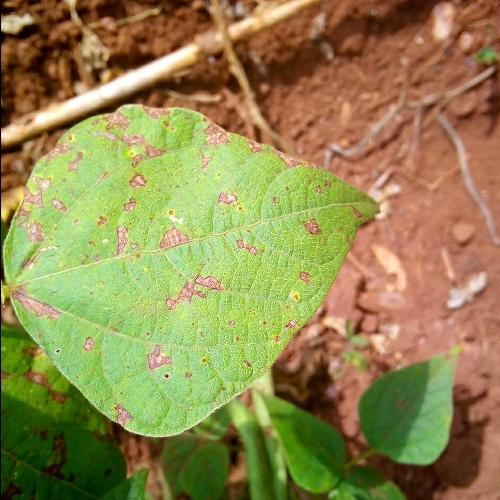mozaik: (39, 81, 343, 454)
